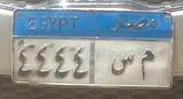4: (71, 46, 89, 82), (52, 45, 70, 80), (35, 44, 52, 80), (16, 46, 32, 78)
meem: (139, 48, 155, 82)
seen: (108, 51, 135, 79)
